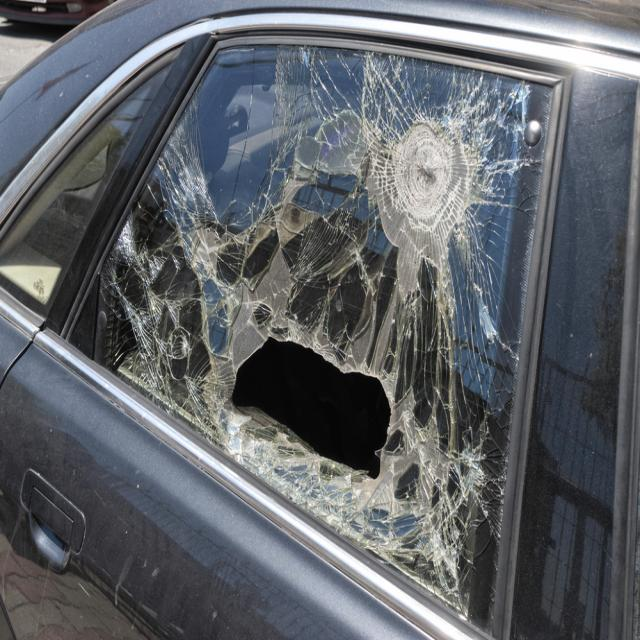glass shatter: (110, 45, 555, 639)
